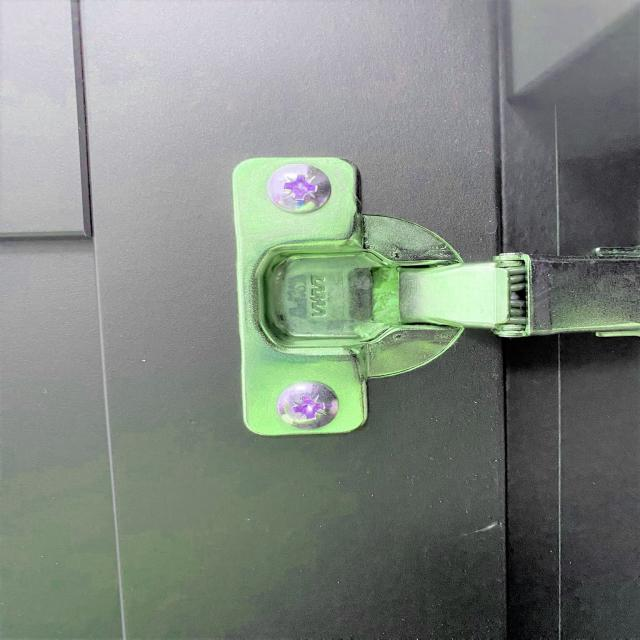PhillipsScrewHead: (267, 162, 333, 214), (278, 382, 339, 429)
